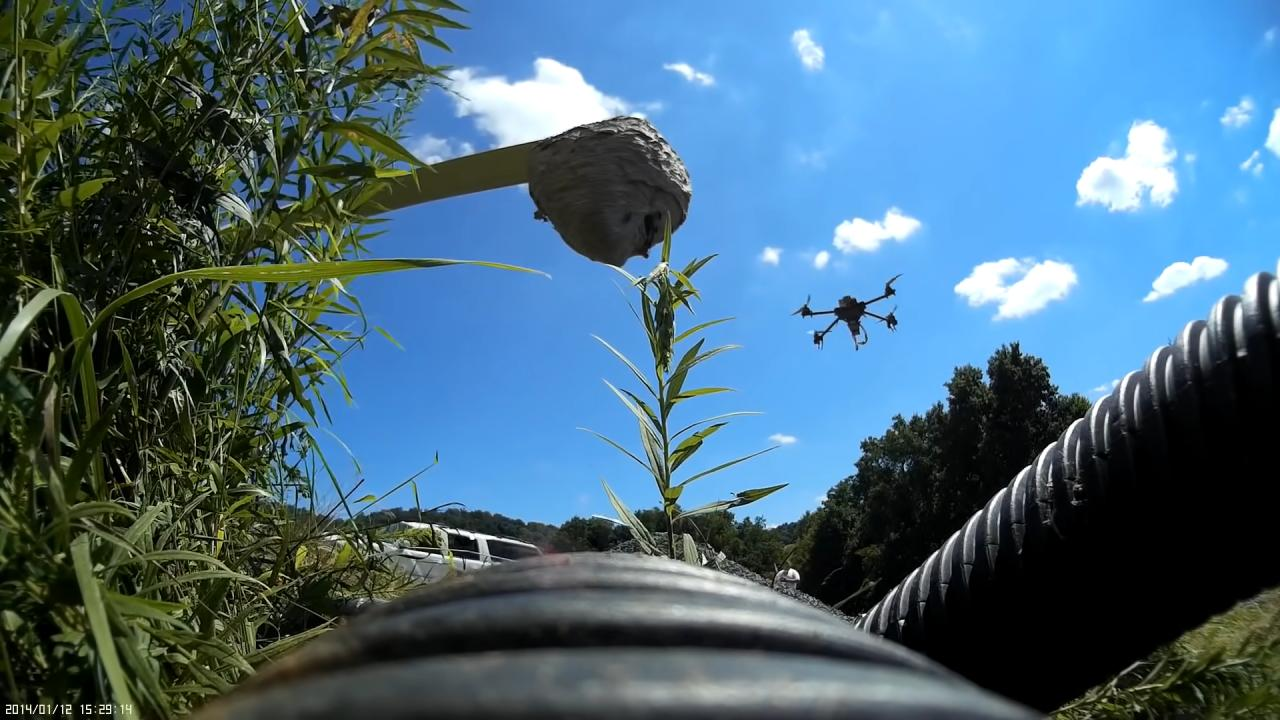Drone: (776, 267, 920, 369)
